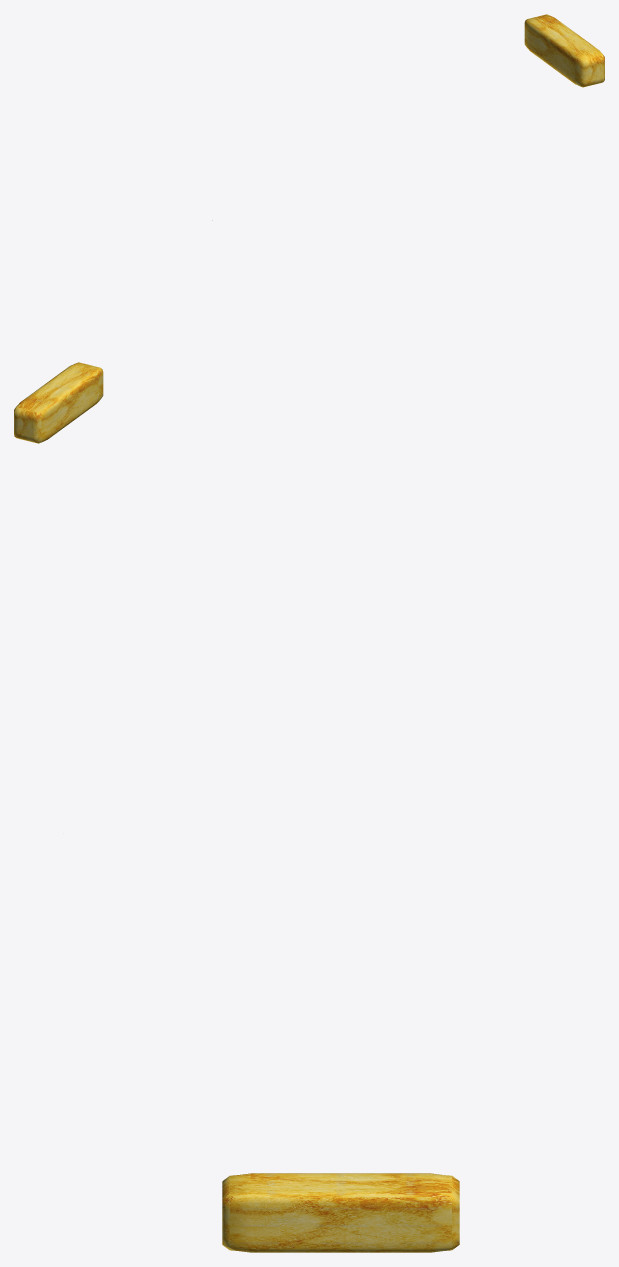
The model's file is twinky.FBX.
3 renders of one model, top to bottom at view 1: azimuth 30°, elevation 25°; view 2: azimuth 150°, elevation 25°; view 3: azimuth 270°, elevation 25°, orthographic. The views are drawn at different scales.
Parts seen in each view (by area): view 1: Box017; view 2: Box017; view 3: Box017.
Part boxes in pixels (x1,y1,x2,y2): Box017: [524, 14, 604, 87]; Box017: [14, 362, 103, 443]; Box017: [222, 1173, 459, 1252].
Bounding box in the file's own units: 696 × 281 × 291.
1 material, 1 textured.
